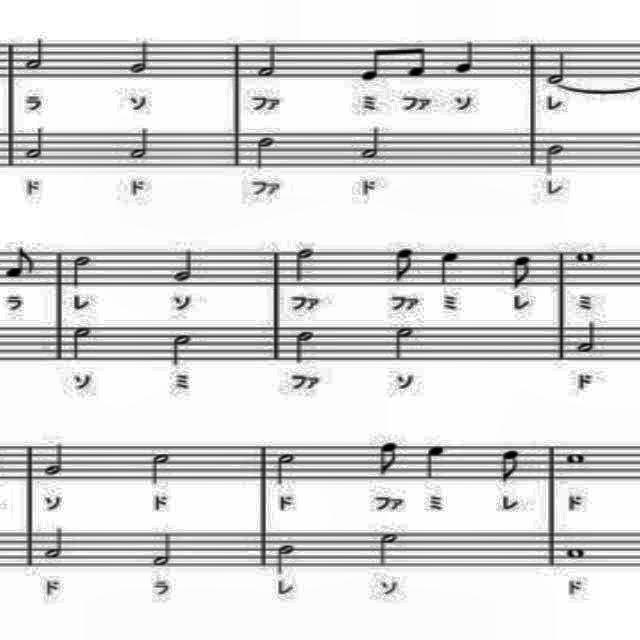Eighth-note: (357, 36, 393, 88), (4, 242, 44, 282), (402, 38, 434, 86), (387, 242, 419, 286), (375, 436, 403, 478), (497, 446, 525, 482), (510, 250, 534, 290)
Full-note: (562, 544, 588, 564), (573, 246, 599, 266), (566, 449, 586, 467)
Half-note: (248, 39, 288, 85), (354, 122, 390, 166), (145, 448, 181, 488), (39, 524, 75, 564), (124, 35, 158, 77), (287, 241, 317, 287), (147, 526, 177, 572), (248, 130, 280, 173), (40, 438, 74, 478), (168, 246, 200, 288), (67, 244, 96, 290), (387, 324, 418, 366), (20, 31, 48, 77), (540, 142, 572, 182), (292, 326, 321, 370), (572, 318, 604, 357), (168, 328, 196, 372), (67, 321, 95, 364), (545, 44, 571, 88), (270, 448, 298, 488), (128, 123, 156, 161), (376, 530, 402, 570), (24, 122, 48, 164), (272, 542, 300, 576)
Quarter-note: (450, 39, 486, 77), (422, 439, 450, 485), (436, 247, 464, 289)
